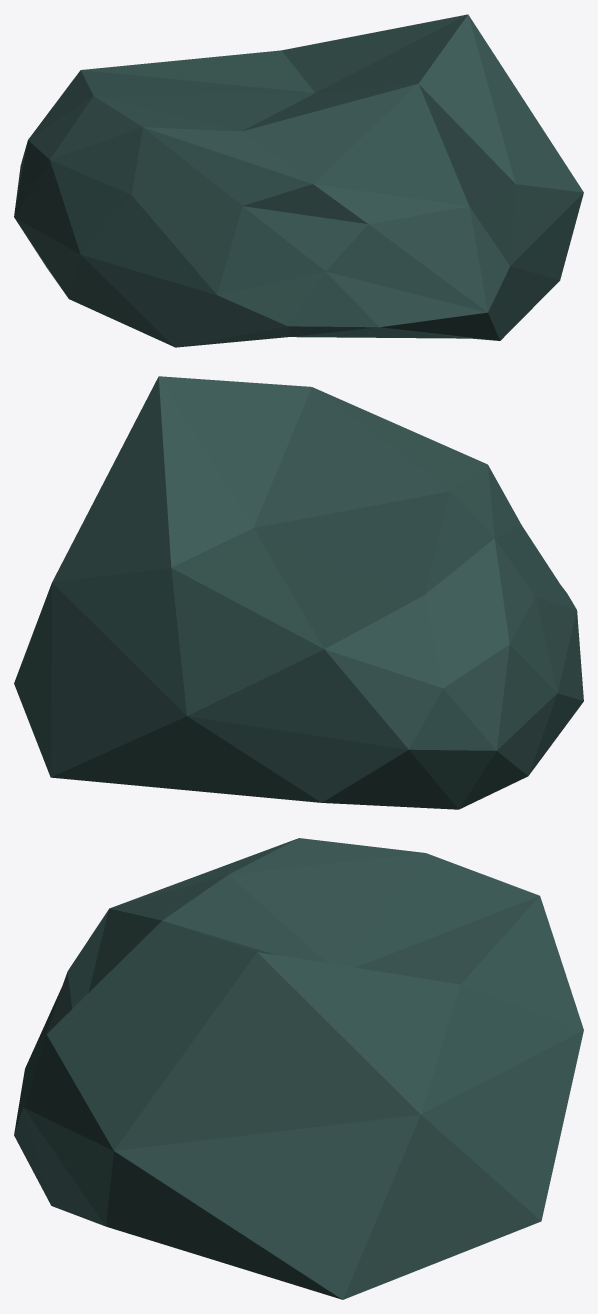
File: stone003.fbx
The picture shows the model from 3 angles, top to bottom: view 1: azimuth 30°, elevation 25°; view 2: azimuth 150°, elevation 25°; view 3: azimuth 270°, elevation 25°; orthographic projection. The views are drawn at different scales.
Visible parts, largest first — view 1: stone003; view 2: stone003; view 3: stone003.
Part boxes in pixels (x1,y1,x2,y2): stone003: [14, 14, 583, 347]; stone003: [14, 376, 583, 809]; stone003: [14, 838, 583, 1299].
Bounding box in the file's own units: 115 × 61.82 × 107.
